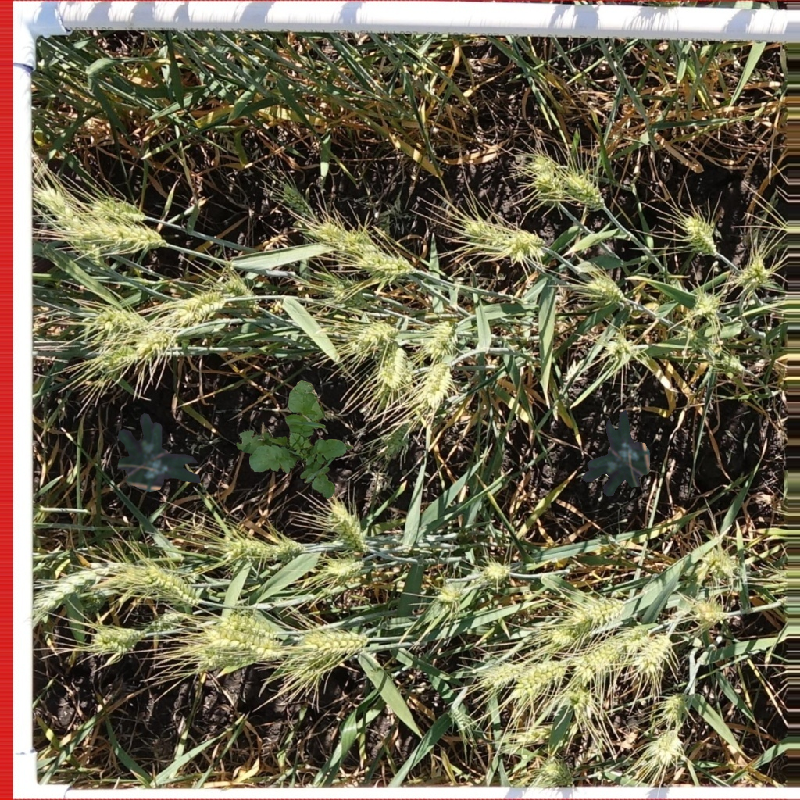spikelet: (32, 185, 107, 266), (25, 555, 112, 621), (570, 621, 649, 683), (549, 590, 629, 641), (155, 282, 234, 333), (67, 215, 167, 255), (129, 558, 205, 606), (89, 336, 164, 381), (192, 625, 288, 660), (217, 529, 299, 568), (320, 496, 372, 552), (293, 623, 371, 660), (310, 217, 382, 256), (508, 655, 566, 703), (459, 213, 520, 258), (349, 244, 419, 283), (210, 605, 286, 640), (83, 299, 152, 336), (560, 162, 609, 212), (525, 150, 568, 205), (344, 314, 400, 356), (414, 356, 456, 410), (87, 620, 148, 657), (677, 209, 722, 258), (641, 723, 687, 769), (86, 193, 151, 224), (581, 270, 630, 311), (633, 628, 675, 675), (318, 552, 373, 587), (374, 341, 413, 390), (502, 226, 550, 265), (418, 315, 459, 356), (474, 657, 525, 689), (688, 593, 731, 630), (703, 545, 743, 584), (733, 254, 774, 292), (601, 329, 641, 367), (472, 556, 515, 591), (657, 687, 695, 726), (686, 286, 726, 321), (434, 574, 472, 610), (536, 753, 576, 787), (325, 274, 365, 305)
weed: (236, 380, 354, 499), (565, 406, 660, 504), (117, 413, 201, 492)
